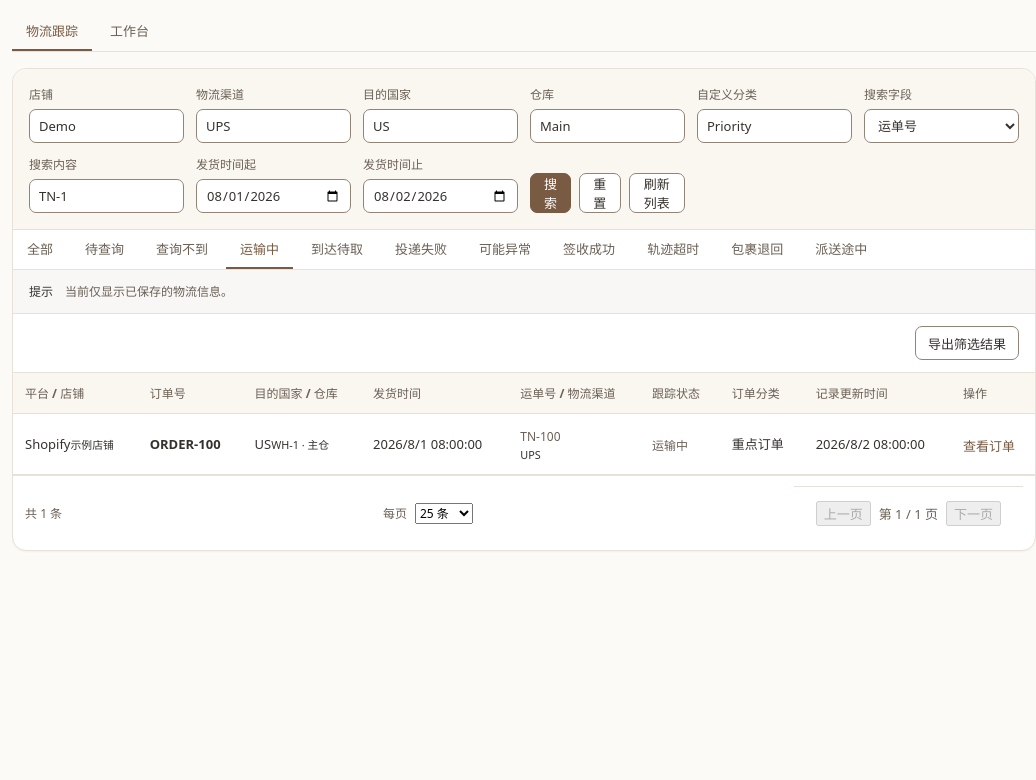
Test case: logistics tracking page › exports the complete filtered result and announces success
This screenshot has width=1036, height=780.
Click the button "导出筛选结果".
click(967, 343)  # box x1=915 y1=326 x2=1019 y2=360
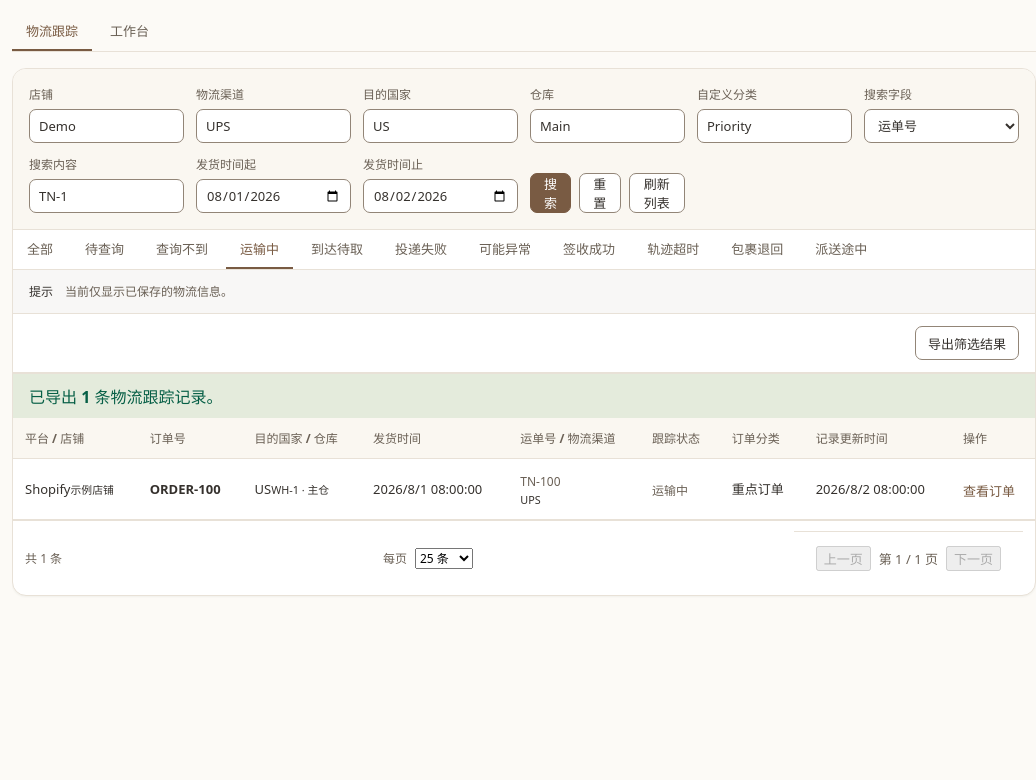
Now the text "已导出 1 条物流跟踪记录。" is shown, box x1=13 y1=373 x2=1035 y2=418
